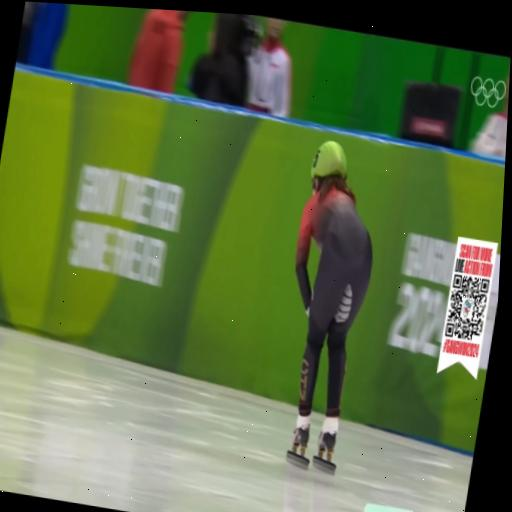Skater: (288, 142, 372, 473)
